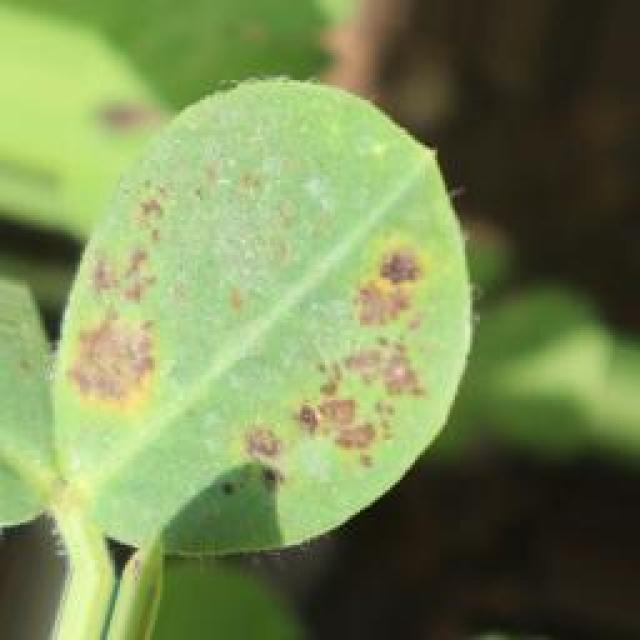Yellowish: (51, 100, 508, 514)
